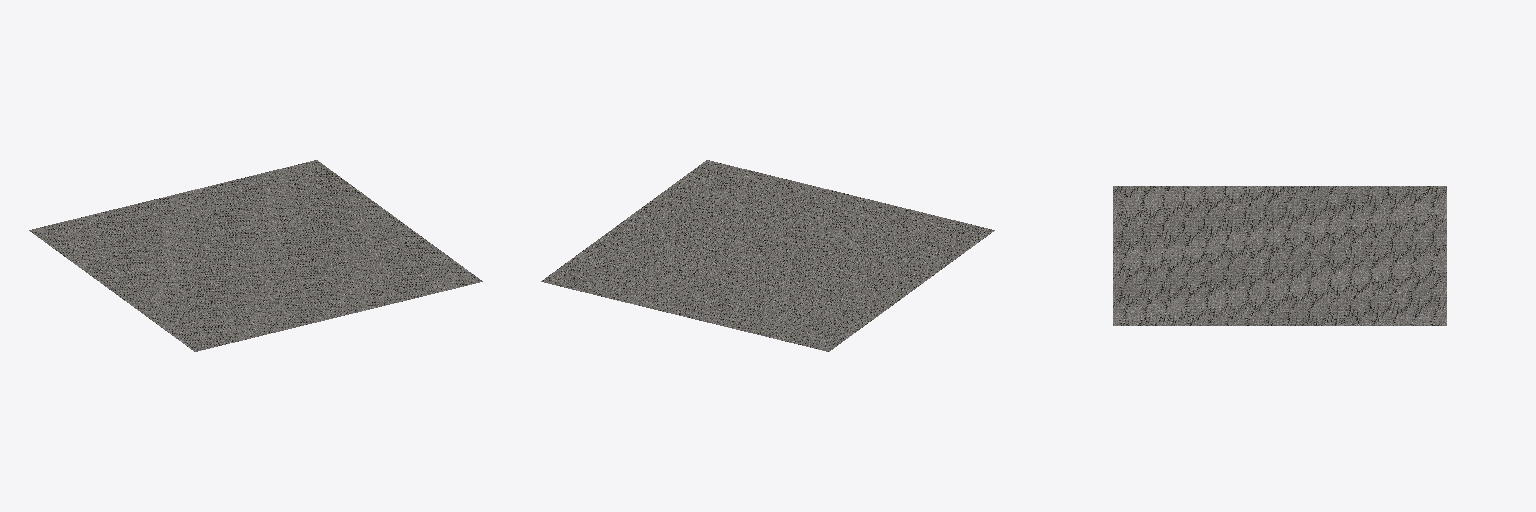
3 renders of one model, left to right at view 1: azimuth 30°, elevation 25°; view 2: azimuth 150°, elevation 25°; view 3: azimuth 270°, elevation 25°, orthographic.
Parts seen in each view (by area): view 1: pCube1; view 2: pCube1; view 3: pCube1.
Boxes of the visible parts, x1=… form: pCube1: x1=29, y1=160, x2=482, y2=351; pCube1: x1=541, y1=160, x2=994, y2=351; pCube1: x1=1113, y1=186, x2=1446, y2=325.
Size of the model in its own units: 200 by 0 by 200.
Materials: 1 (1 with a texture image).